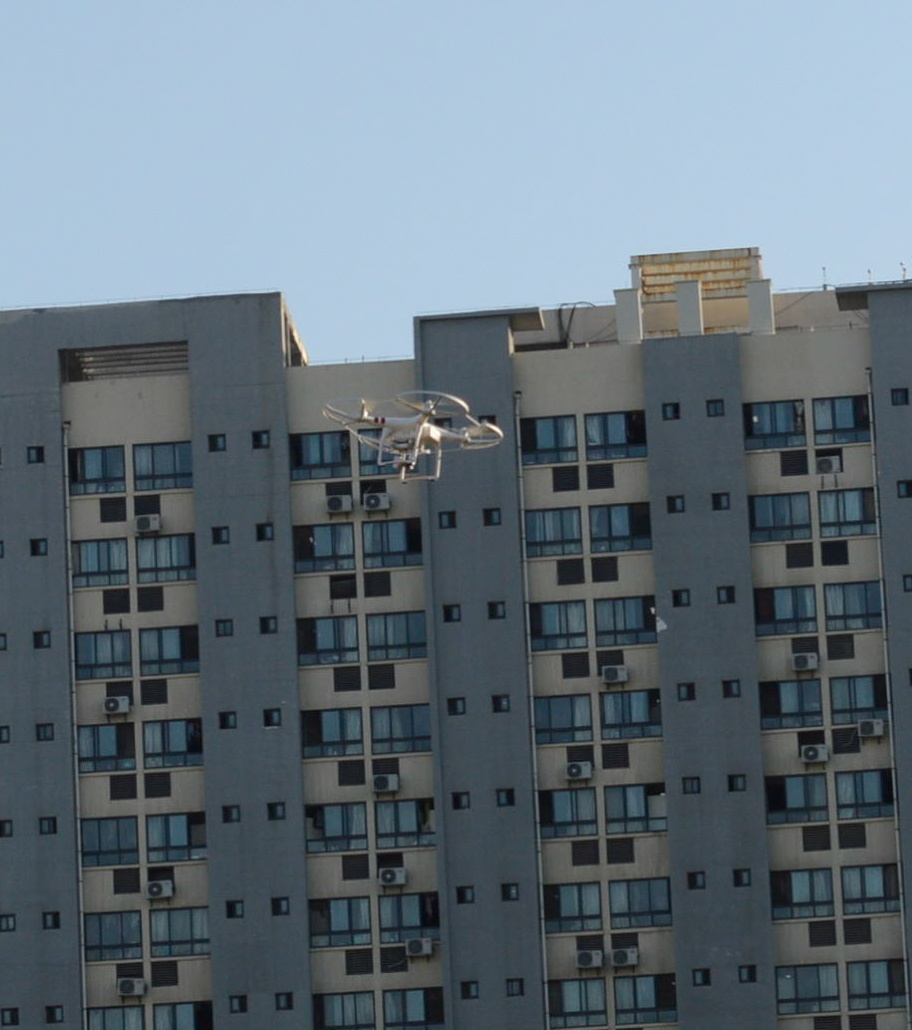DJI: (324, 390, 505, 484)
